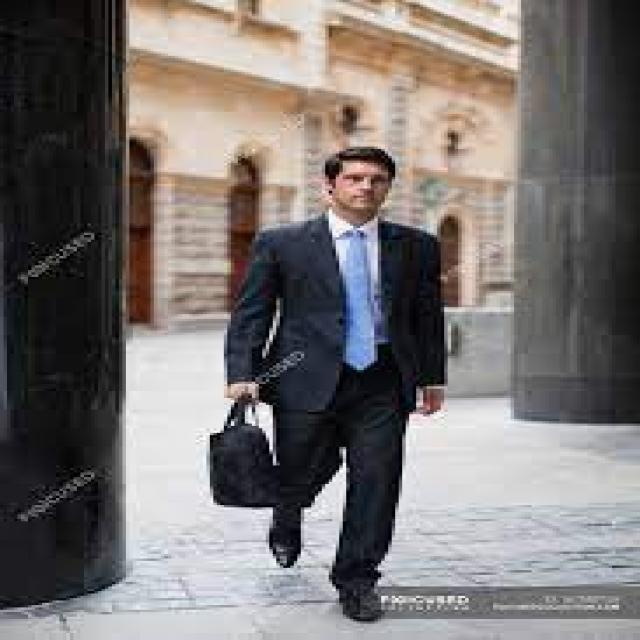Person: (211, 147, 445, 622)
